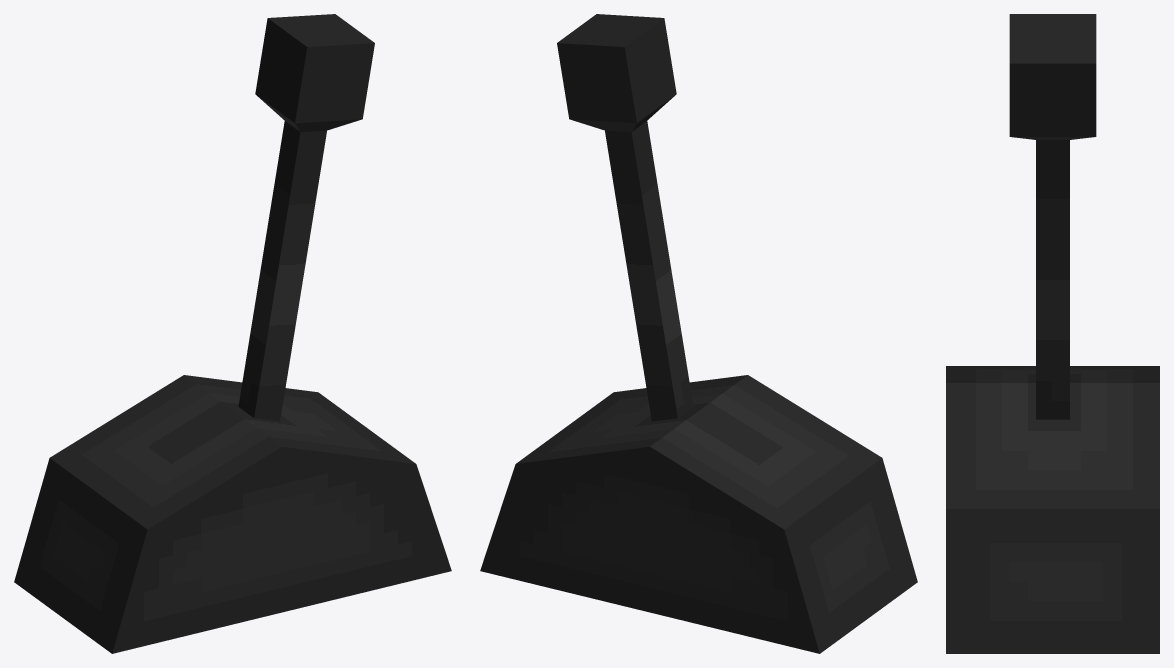
The model's file is lever0009.obj.
3 views of the same model, side by side, from view 1: azimuth 30°, elevation 25°; view 2: azimuth 150°, elevation 25°; view 3: azimuth 270°, elevation 25° (orthographic). The views are drawn at different scales.
Visible parts, largest first — view 1: Cube.018, Cube.019; view 2: Cube.018, Cube.019; view 3: Cube.018, Cube.019.
Part boxes in pixels (x1,y1,x2,y2): Cube.018: (14,375,451,653); Cube.019: (238,14,374,421); Cube.018: (480,375,917,653); Cube.019: (557,14,693,421); Cube.018: (946,366,1159,653); Cube.019: (1009,14,1096,419).
Size of the model in its own units: 32 by 48.37 by 16.
